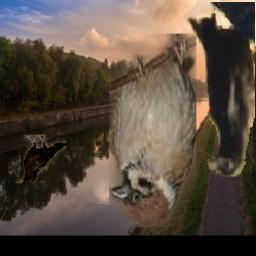Crow: (187, 3, 255, 177), (16, 135, 67, 184)
Sparrow: (110, 34, 197, 227)
